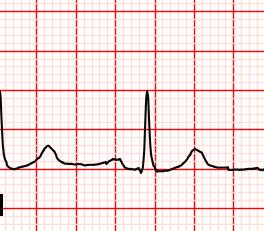LVH: (20, 135, 74, 173), (169, 138, 221, 176)
